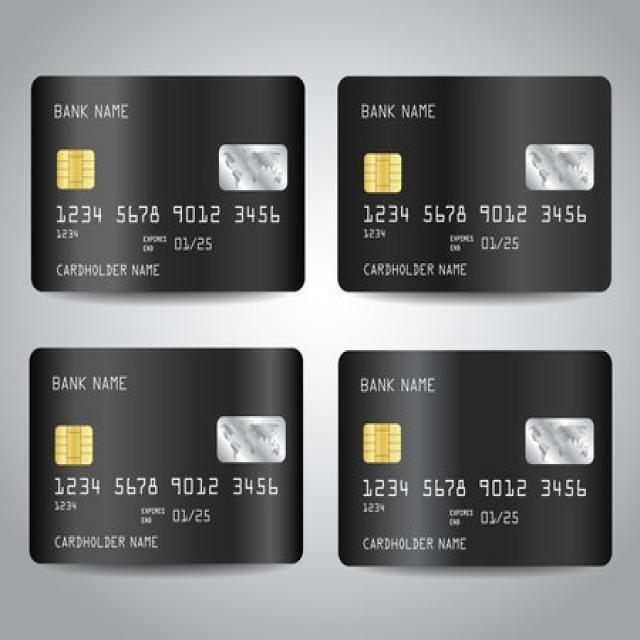payment_card: (28, 346, 303, 565), (30, 73, 305, 292), (336, 74, 612, 292), (337, 349, 612, 567)
